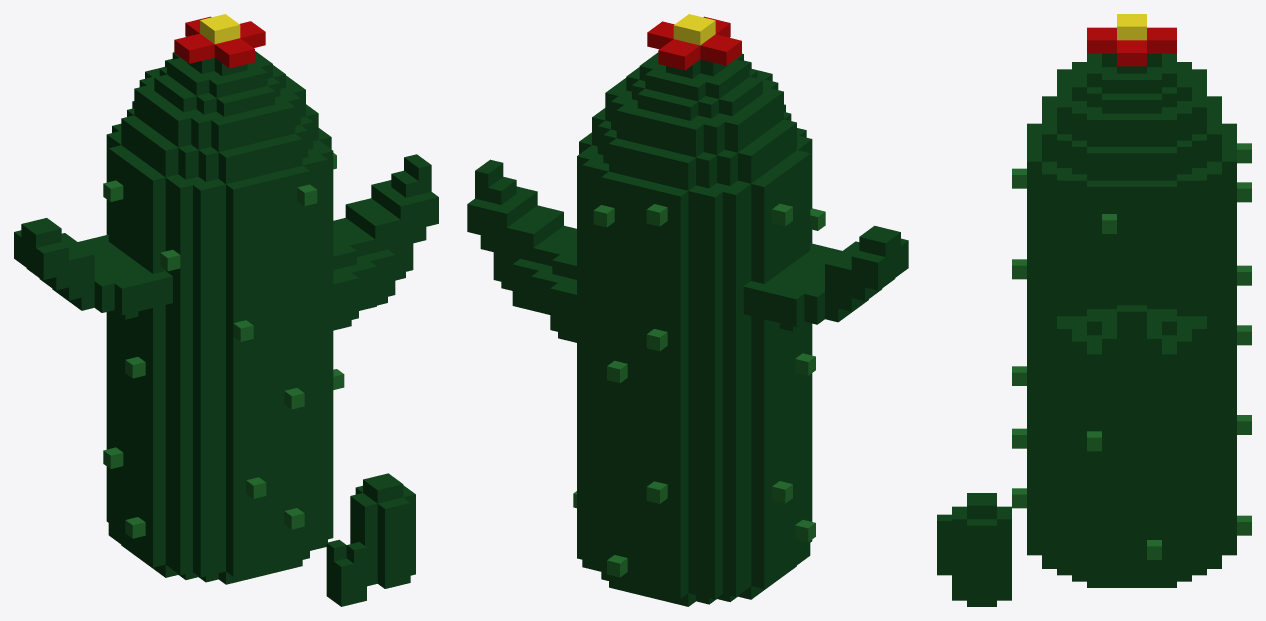
The model's file is Background_B_tree_02.FBX.
3 views of the same model, side by side, from view 1: azimuth 30°, elevation 25°; view 2: azimuth 150°, elevation 25°; view 3: azimuth 270°, elevation 25° (orthographic). The views are drawn at different scales.
Visible parts, largest first — view 1: untitled-3; view 2: untitled-3; view 3: untitled-3.
Boxes of the visible parts, x1=… form: untitled-3: x1=14, y1=14, x2=438, y2=606; untitled-3: x1=467, y1=14, x2=908, y2=606; untitled-3: x1=937, y1=14, x2=1251, y2=606.
Bounding box in the file's own units: 3.1 × 3.9 × 2.1.
Materials: 1 (1 with a texture image).
